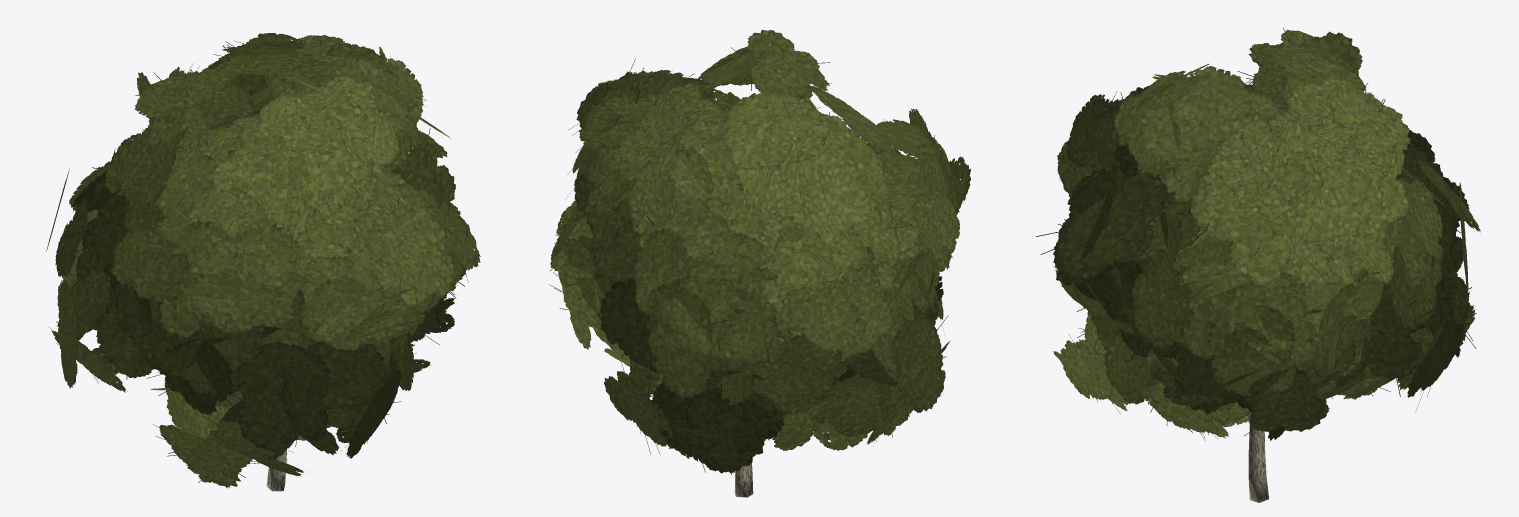
The model's file is SM_Albero_LatifogliaB_LOD2.fbx.
3 renders of one model, left to right at view 1: azimuth 30°, elevation 25°; view 2: azimuth 150°, elevation 25°; view 3: azimuth 270°, elevation 25°, orthographic. The views are drawn at different scales.
Visible parts, largest first — view 1: SM_Albero_LatifogliaB_LOD2; view 2: SM_Albero_LatifogliaB_LOD2; view 3: SM_Albero_LatifogliaB_LOD2.
Part boxes in pixels (left/top/right/bottom): SM_Albero_LatifogliaB_LOD2: left=46, top=33, right=480, bottom=491; SM_Albero_LatifogliaB_LOD2: left=548, top=29, right=970, bottom=497; SM_Albero_LatifogliaB_LOD2: left=1036, top=28, right=1480, bottom=502.
Size of the model in its own units: 1879 by 1875 by 1914.
Materials: 2 (2 with a texture image).
